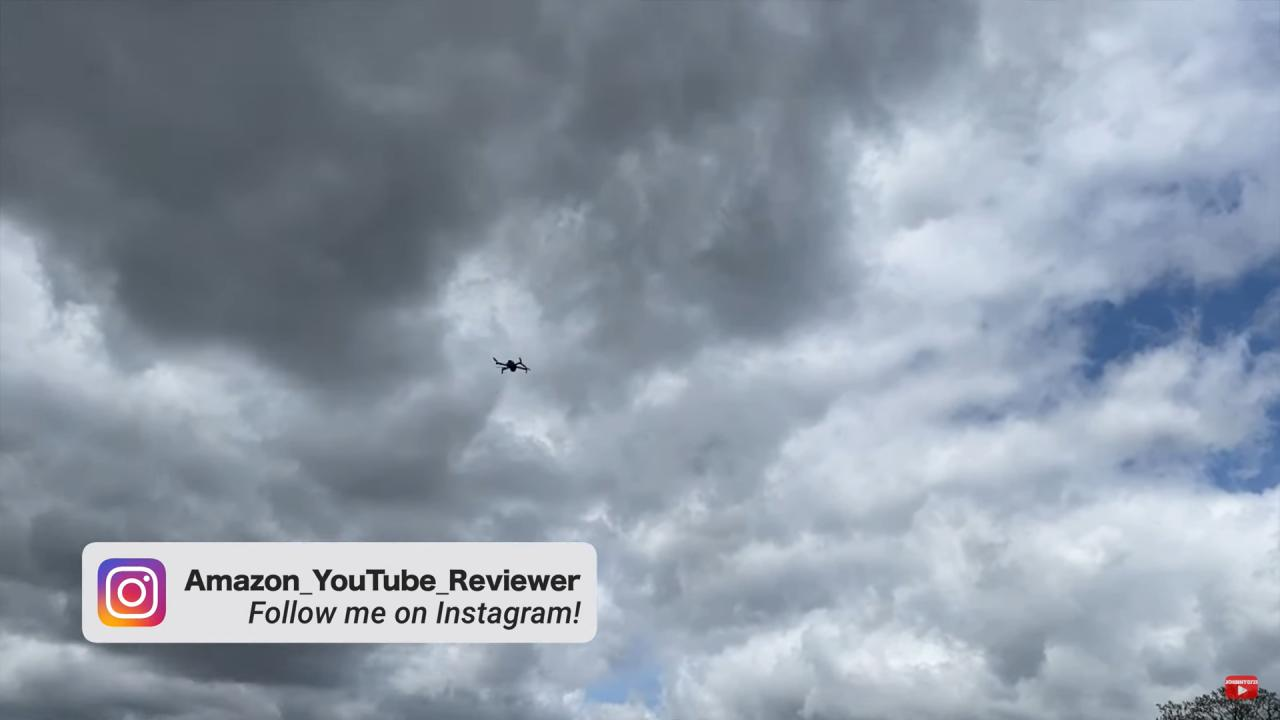Drone: (484, 346, 539, 382)
